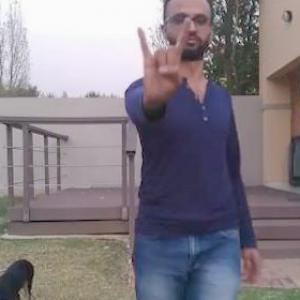takeoff-hand: (131, 18, 196, 104)
